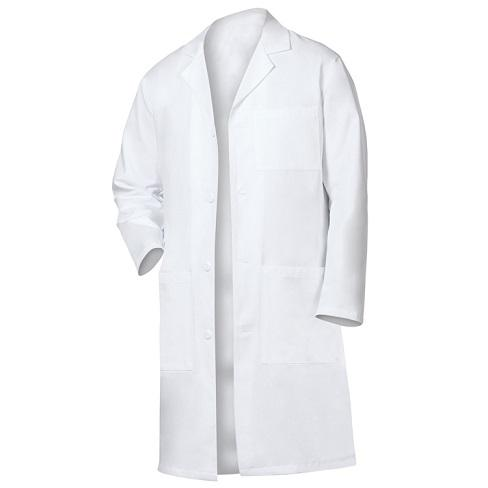lab_coat: (111, 10, 366, 479)
